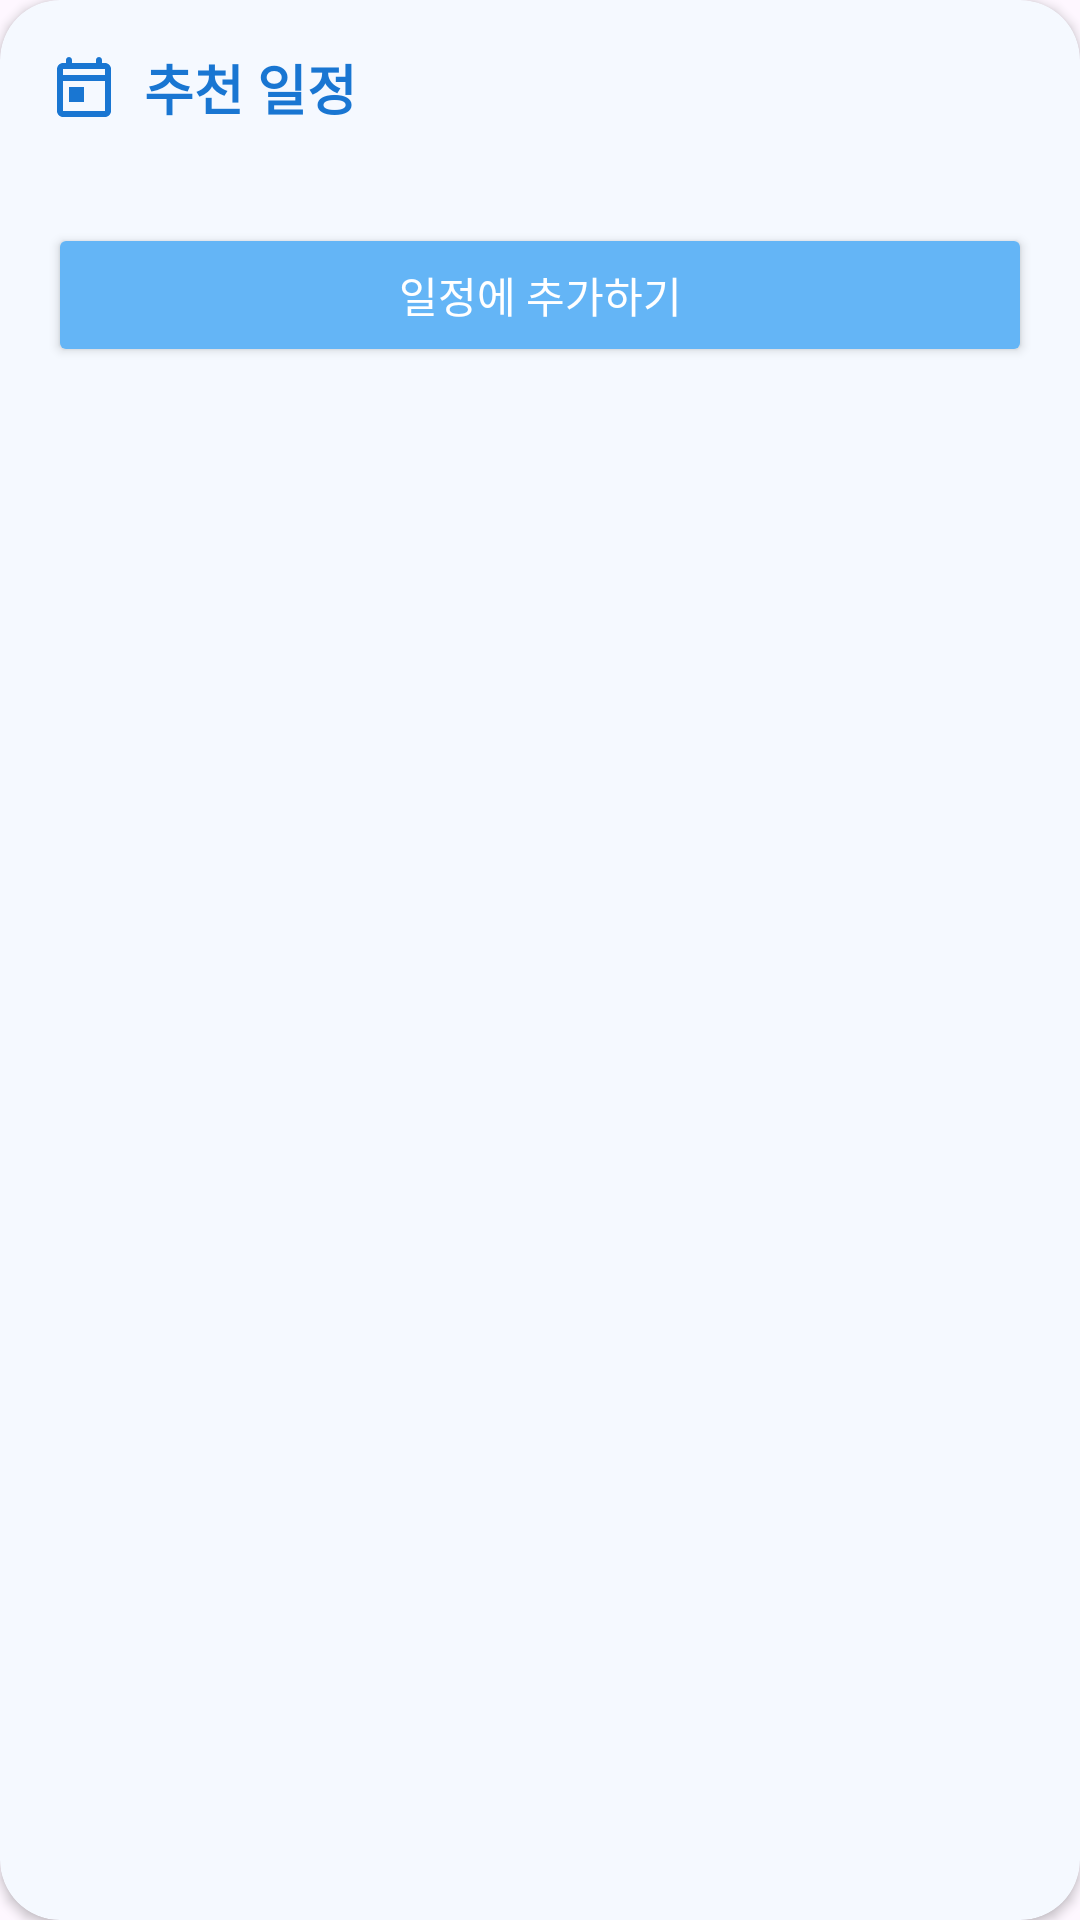

Point at icon controls on the screen. Image size 1080w x 1920h, points as (x,y).
calendar: (84,87)
